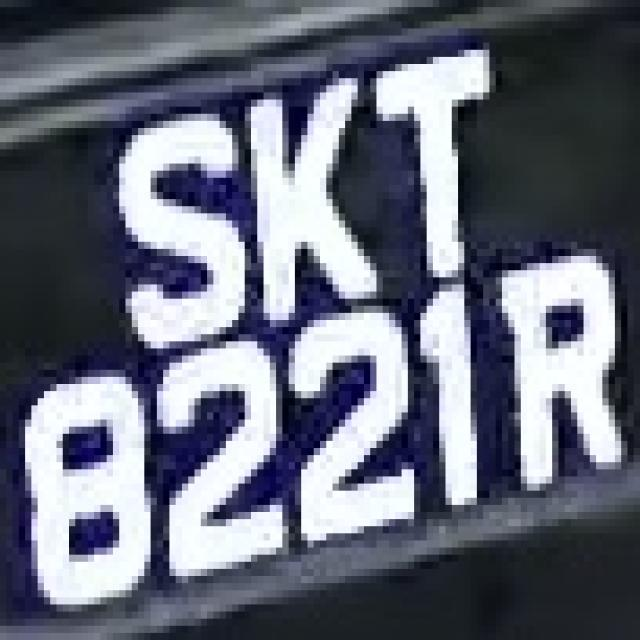1: (414, 263, 490, 541)
2: (132, 342, 301, 590), (270, 298, 420, 554)
8: (12, 356, 170, 612)
K: (226, 50, 358, 334)
R: (5, 3, 6, 5)
S: (88, 78, 245, 356)
T: (358, 43, 502, 284)
